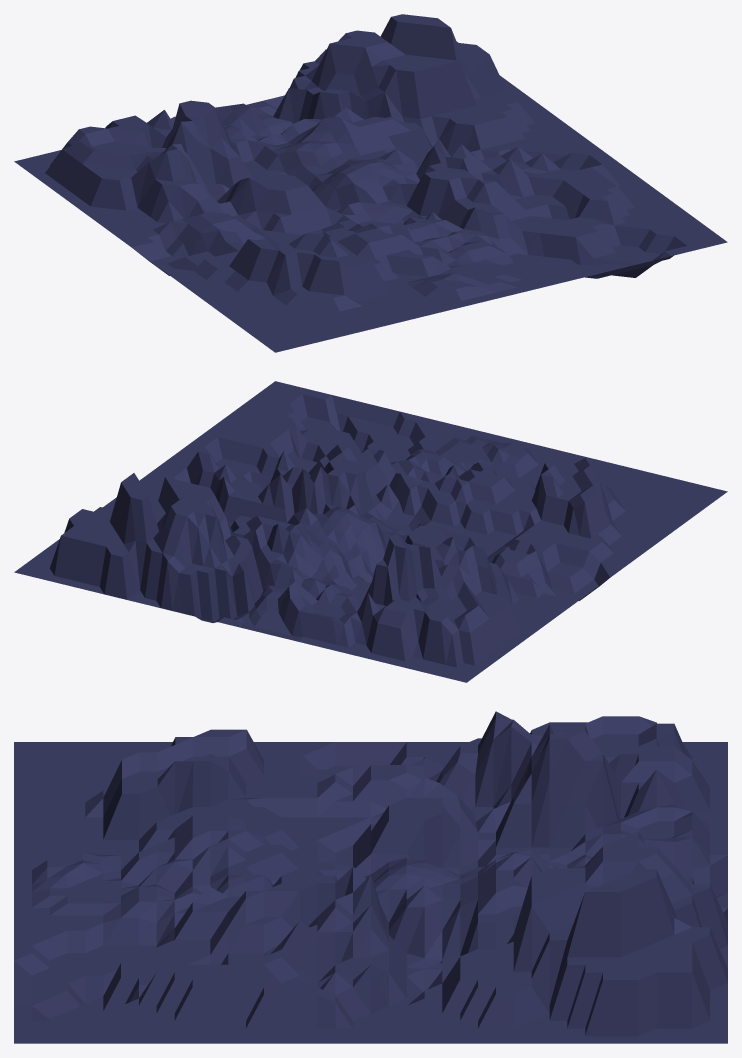
The model's file is terrain.obj.
3 renders of one model, top to bottom at view 1: azimuth 30°, elevation 25°; view 2: azimuth 150°, elevation 25°; view 3: azimuth 270°, elevation 25°, orthographic. The views are drawn at different scales.
Bounding box in the file's own units: 1000 × 220 × 1000.
Materials: 1 (1 with a texture image).
